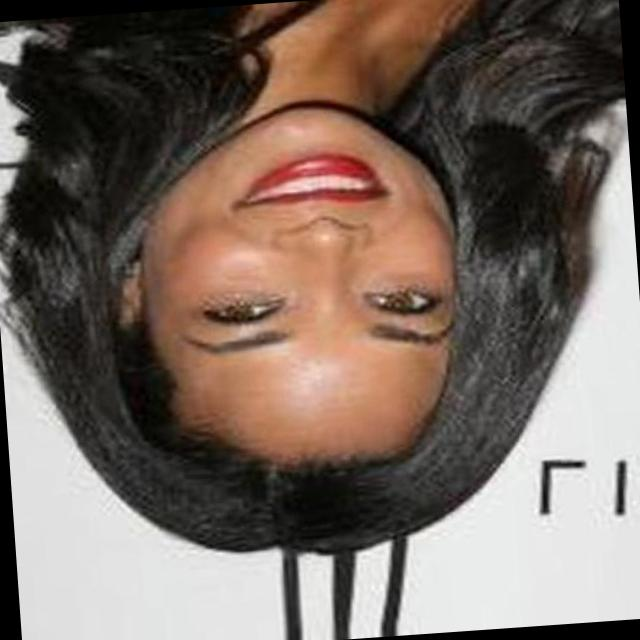bareface: (74, 107, 468, 526)
